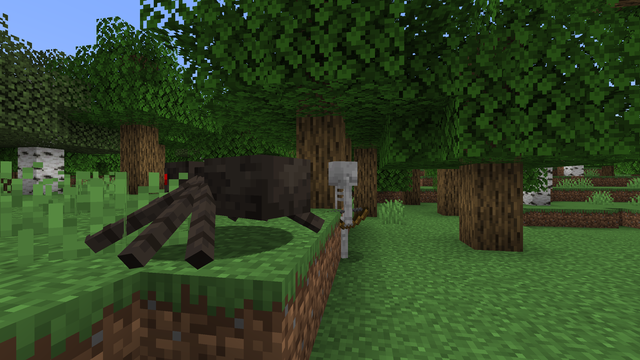araignees: (98, 142, 301, 263)
squelettes: (325, 161, 355, 260)
